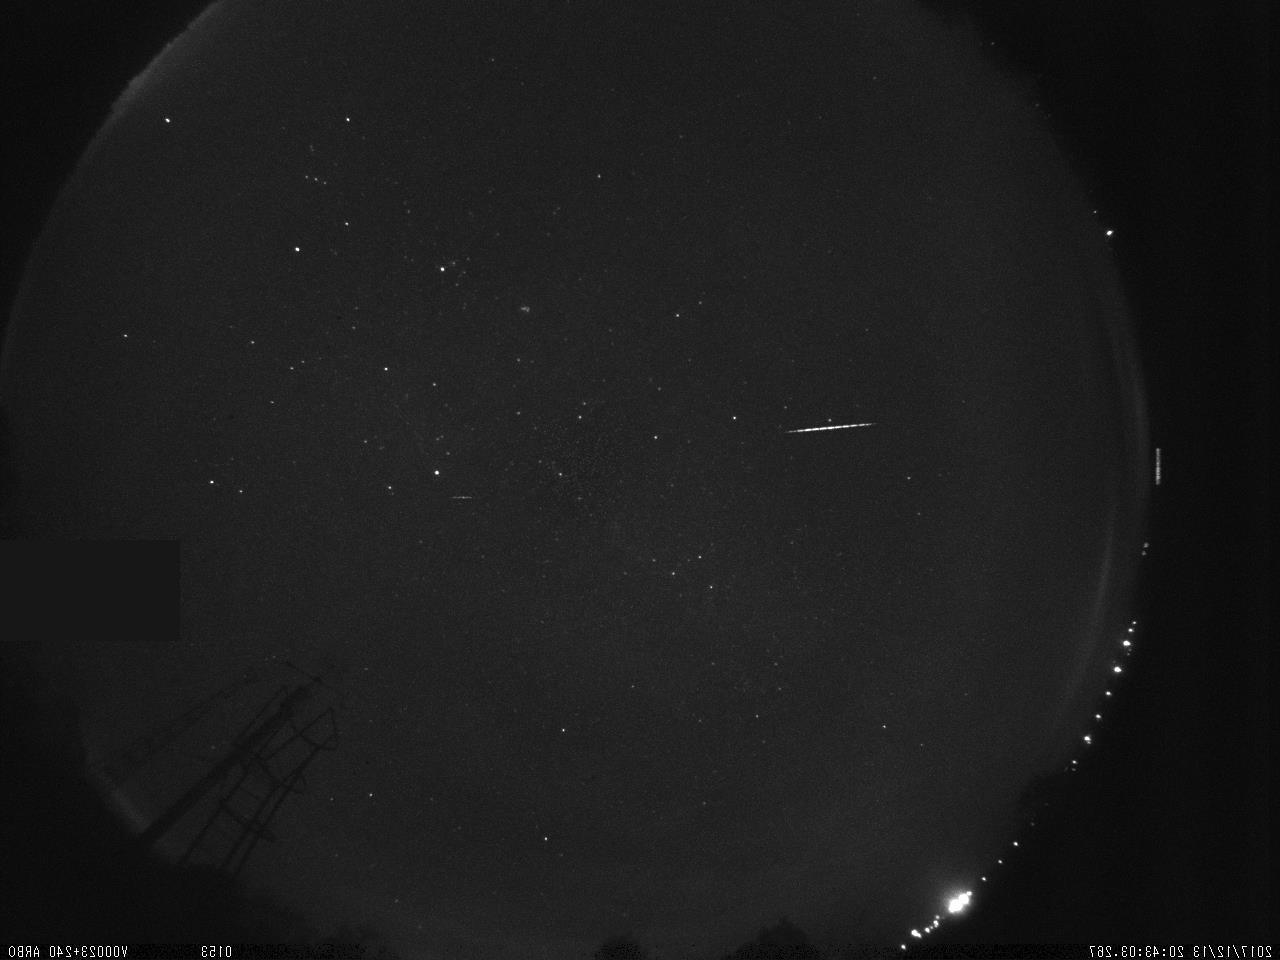meteor: (763, 405, 897, 445), (437, 487, 489, 509)
